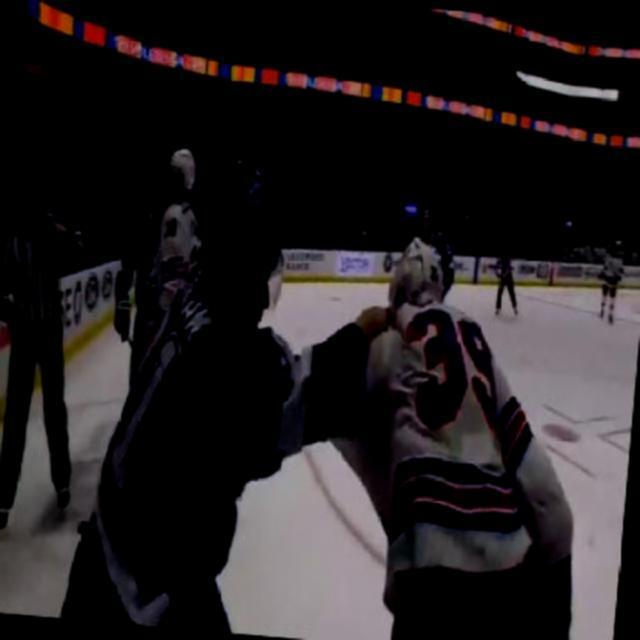fight: (60, 147, 432, 638), (177, 226, 612, 639)
non-fight: (0, 146, 98, 538)
